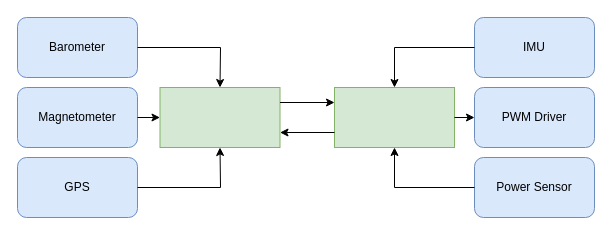
The diagram is 612 pixels wide and 235 high, and some of its shapes have lost their labels. The centre of each missing label's shape, as x and y in pixels:
"Control Computer" goes at [394,117].
"Navigation Computer" goes at [219,117].
